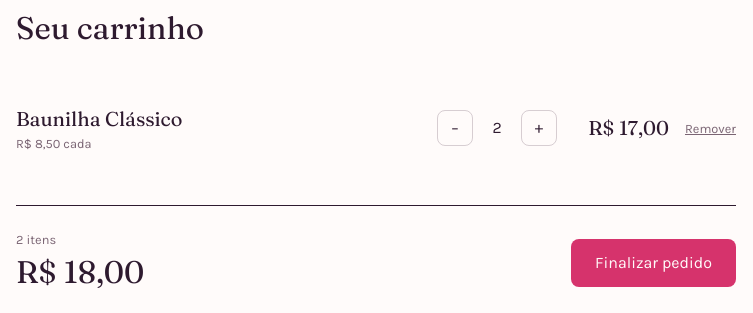
Carrinho › aumentar a quantidade substitui o carrinho pela resposta da API
This screenshot has width=753, height=313.
Click the button named "aumentar baunilha".
click(539, 128)  # box x1=521 y1=110 x2=557 y2=146
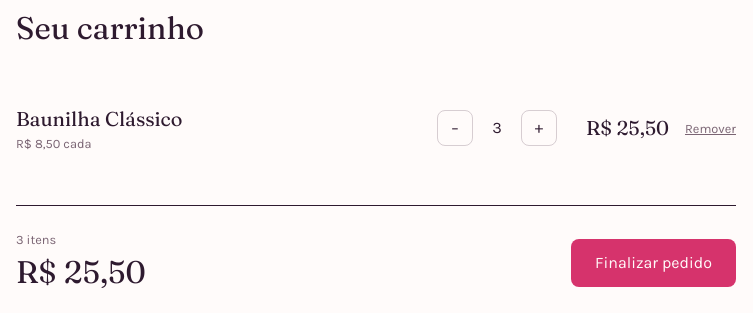
Expected: the text "R$ 25,50" is shown 2 times, x1=573 y1=114 x2=669 y2=144; x1=16 y1=249 x2=146 y2=296
Expected: the text "3" is shown, x1=492 y1=118 x2=502 y2=138
